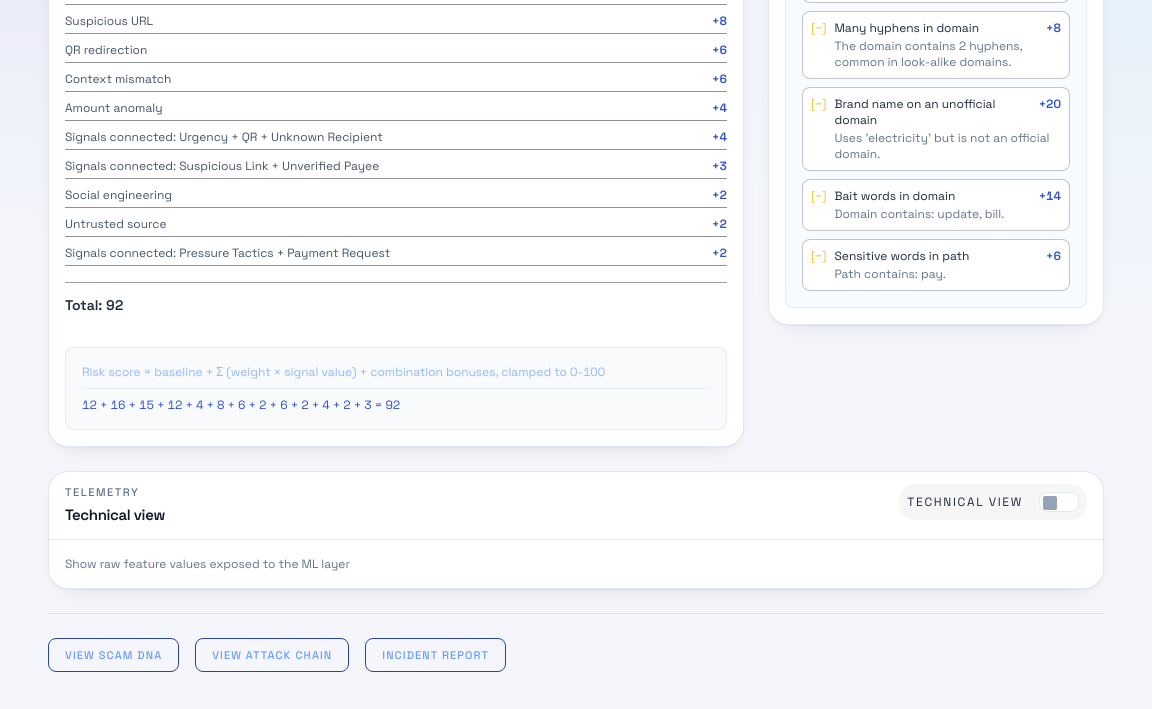
Scenario: RiskExplanation Page › toggles technical view mapping table
(page scrolled)
Expected: the text "Feature / Key" is not shown
Click the switch labelled "Technical view": x=993, y=502 [899, 484, 1087, 520]
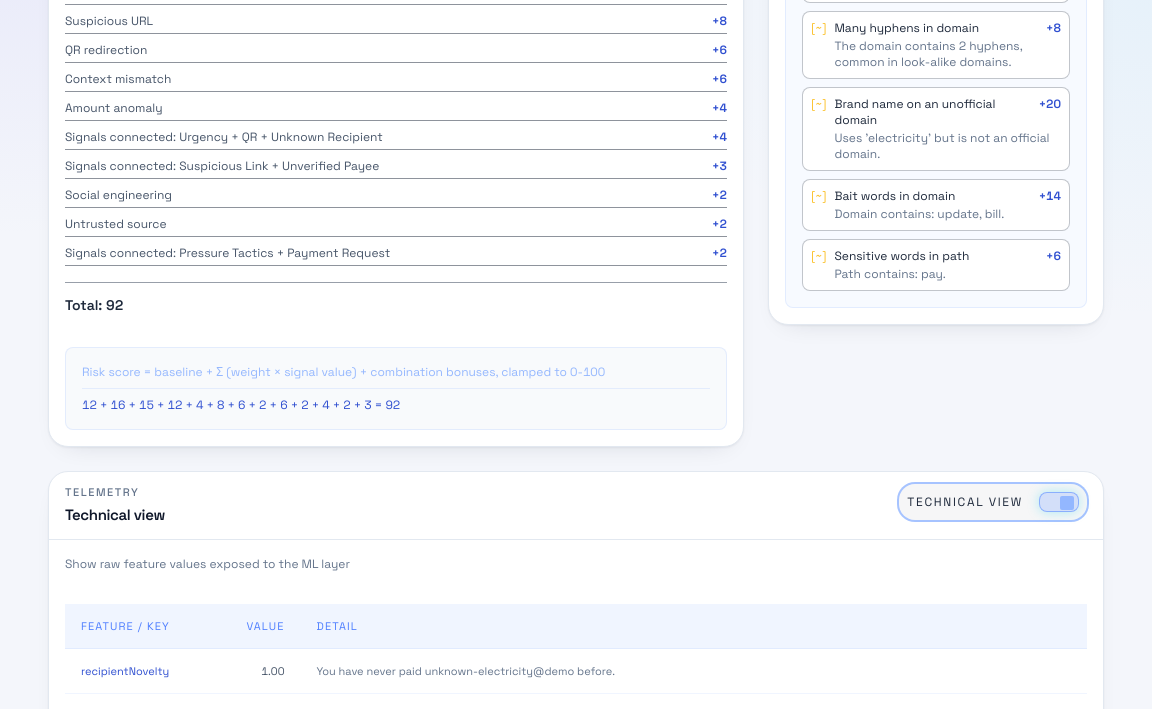
Expected: the column heading "Feature / Key" is shown, [65, 604, 204, 648]
